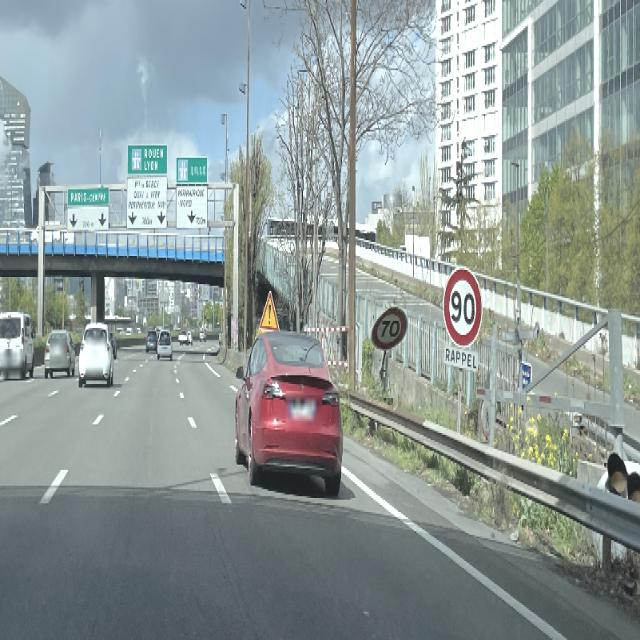speed_90: (442, 266, 483, 350)
